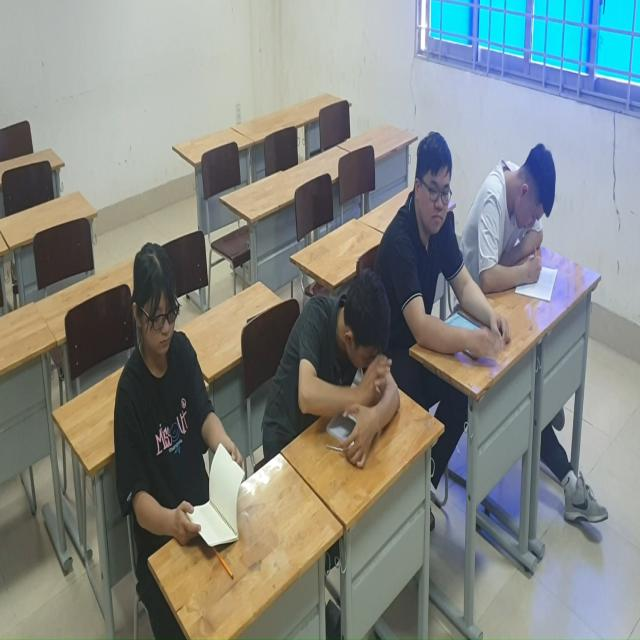read: (102, 241, 246, 574), (385, 134, 480, 346), (478, 141, 561, 309)
sleep: (260, 268, 410, 479)
